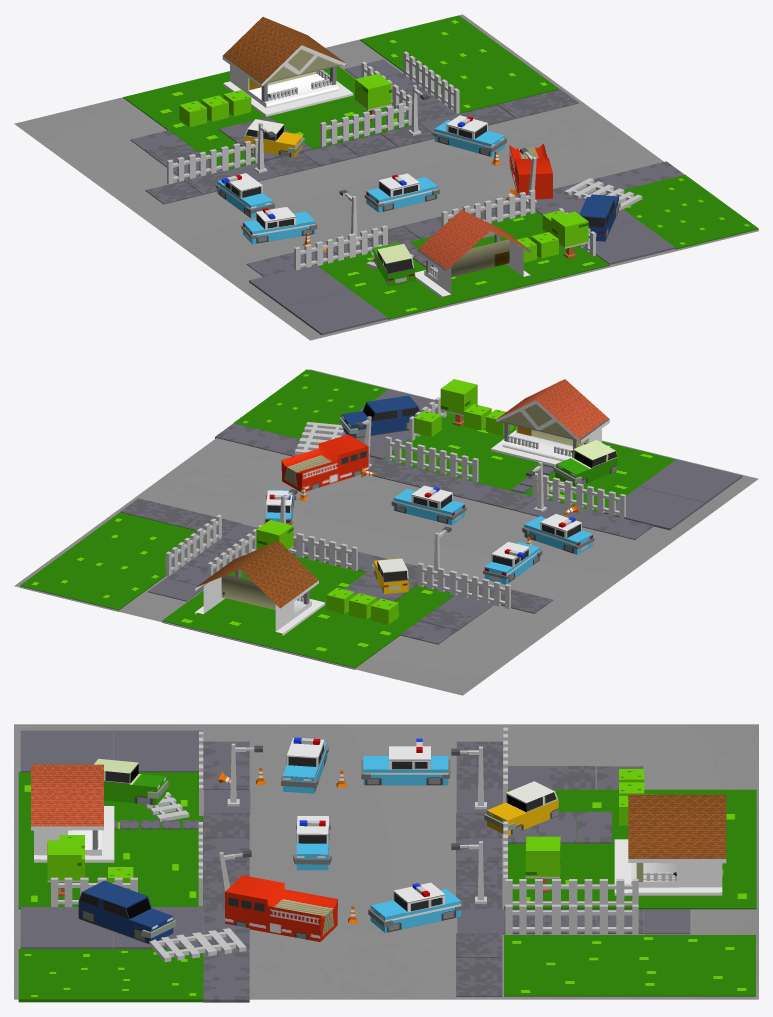
3 renders of one model, top to bottom at view 1: azimuth 30°, elevation 25°; view 2: azimuth 150°, elevation 25°; view 3: azimuth 270°, elevation 25°, orthographic. The views are drawn at different scales.
Visible parts, largest first — view 1: Landscape_0003:Background, Center_Green_Plane3, Center_Green_Plane1, Center_Green_Plane, pPlane5 (×2), Center_Green_Plane2, pPlane4 (×2), Police_Car (×3), Block_84, Block_83, Landscape_0003:Block, Block_66 (+32 smaller); view 2: Landscape_0003:Background, Center_Green_Plane, Center_Green_Plane3, pPlane5 (×2), Center_Green_Plane1, Center_Green_Plane2, pPlane4 (×2), Landscape_0003:Block, Police_Car (×3), Fire, Block_84, Block_83 (+28 smaller); view 3: Landscape_0003:Background, Center_Green_Plane3, pPlane5 (×2), Center_Green_Plane, Center_Green_Plane1, Center_Green_Plane2, Police_Car (×3), Landscape_0003:Block, Fire, pPlane4 (×2), Police_Car4, Block_83 (+36 smaller).
Boxes of the visible parts, box(x1,y1,x2,y2) form: Landscape_0003:Background: box(14, 14, 758, 340); Center_Green_Plane3: box(360, 15, 559, 113); Center_Green_Plane1: box(318, 211, 609, 319); Center_Green_Plane: box(123, 66, 410, 169); pPlane5 (×2): box(222, 17, 530, 274); Center_Green_Plane2: box(604, 174, 758, 249); pPlane4 (×2): box(223, 65, 530, 298); Police_Car (×3): box(215, 115, 506, 244); Block_84: box(284, 290, 387, 335); Block_83: box(249, 264, 349, 307); Landscape_0003:Block: box(285, 114, 575, 264); Block_66: box(596, 220, 674, 264); Landscape_0003:Background: box(14, 369, 758, 695); Center_Green_Plane: box(162, 554, 453, 669); Center_Green_Plane3: box(20, 512, 203, 611); pPlane5 (×2): box(195, 379, 609, 611); Center_Green_Plane1: box(382, 412, 675, 513); Center_Green_Plane2: box(233, 369, 388, 439); pPlane4 (×2): box(195, 426, 610, 635); Landscape_0003:Block: box(222, 456, 614, 540); Police_Car (×3): box(264, 489, 594, 584); Fire: box(281, 434, 368, 491); Block_84: box(639, 459, 742, 503); Block_83: box(604, 486, 705, 530); Landscape_0003:Background: box(14, 724, 758, 999); Center_Green_Plane3: box(504, 935, 755, 996); pPlane5 (×2): box(31, 764, 726, 863); Center_Green_Plane: box(504, 789, 756, 909); Center_Green_Plane1: box(18, 772, 203, 909); Center_Green_Plane2: box(18, 949, 203, 1002); Police_Car (×3): box(281, 738, 463, 932); Landscape_0003:Block: box(203, 765, 503, 934); Fire: box(225, 875, 337, 941); pPlane4 (×2): box(34, 806, 722, 895); Police_Car4: box(78, 880, 175, 943); Block_83: box(114, 730, 202, 772).
Size of the model in its own units: 55.47 by 7.17 by 63.19.
